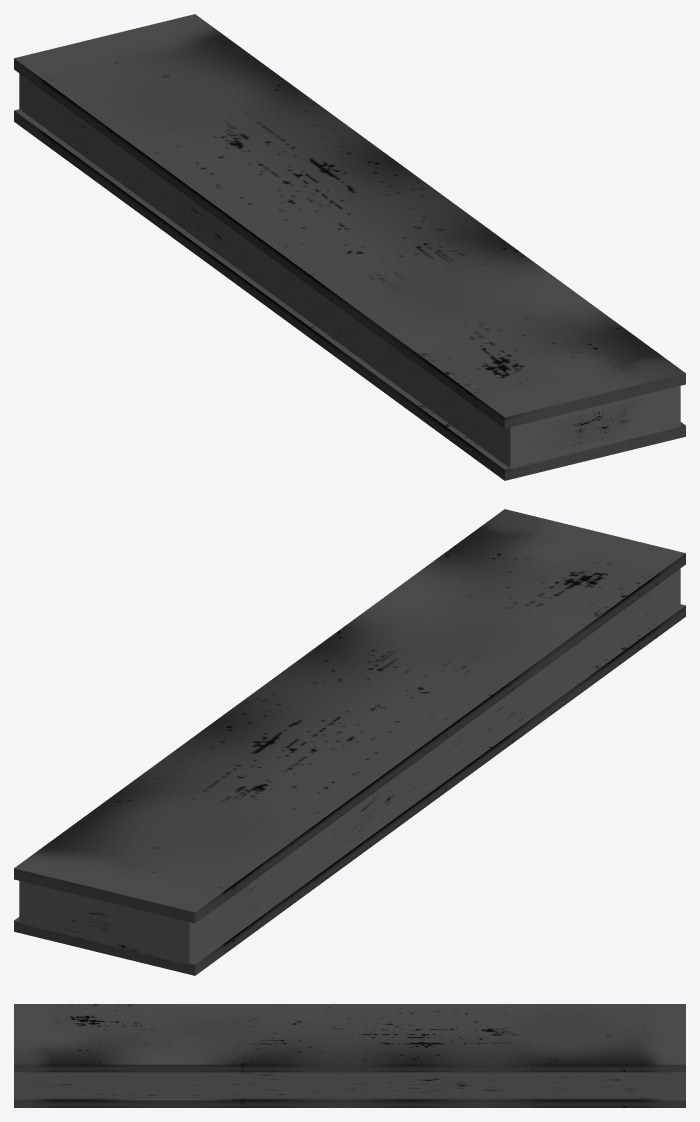
The model's file is Platform_14x3_V1.fbx.
The picture shows the model from 3 angles, top to bottom: view 1: azimuth 30°, elevation 25°; view 2: azimuth 150°, elevation 25°; view 3: azimuth 270°, elevation 25°; orthographic projection. The views are drawn at different scales.
Parts seen in each view (by area): view 1: Platform 14x3 V1; view 2: Platform 14x3 V1; view 3: Platform 14x3 V1.
Part boxes in pixels (left/top/right/bottom): Platform 14x3 V1: left=14, top=14, right=685, bottom=480; Platform 14x3 V1: left=14, top=509, right=685, bottom=975; Platform 14x3 V1: left=14, top=1004, right=685, bottom=1107.
Bounding box in the file's own units: 298 × 99.77 × 1400.
